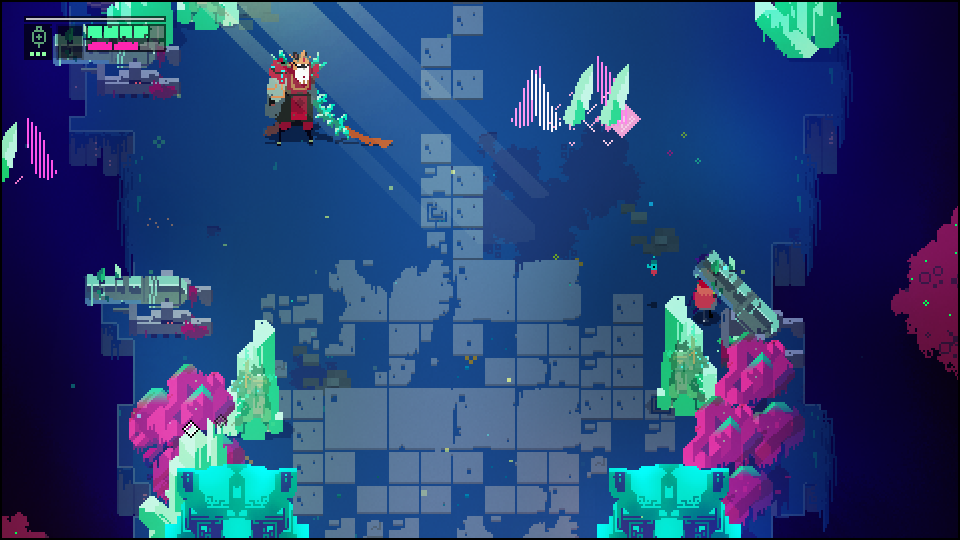hanged_crys: (605, 60, 641, 129), (563, 63, 593, 128), (25, 120, 57, 179), (531, 71, 559, 131)
hanged_man: (263, 46, 355, 152)
player: (690, 263, 721, 310)
